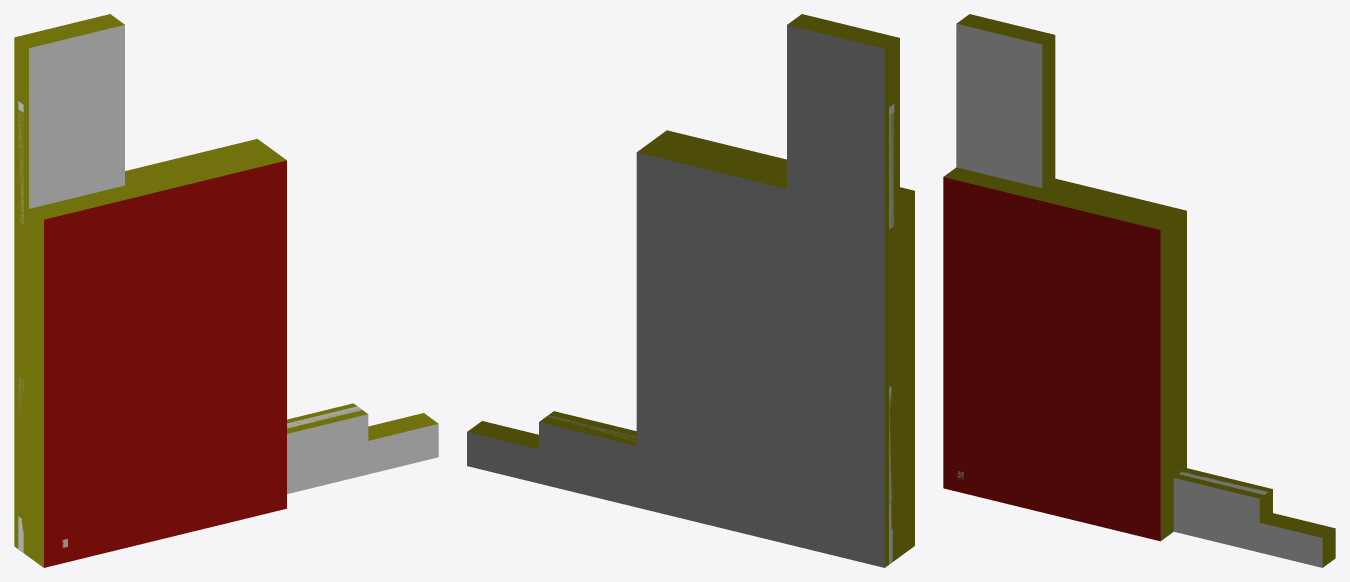
The model's file is idf.obj.
3 renders of one model, left to right at view 1: azimuth 30°, elevation 25°; view 2: azimuth 150°, elevation 25°; view 3: azimuth 330°, elevation 25°, orthographic. The views are drawn at different scales.
Size of the model in its own units: 64 by 76 by 8.
